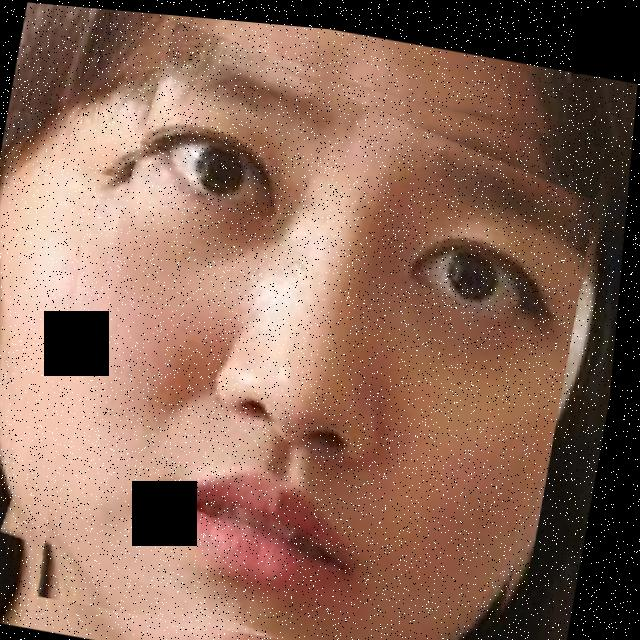fear: (16, 20, 615, 640)
